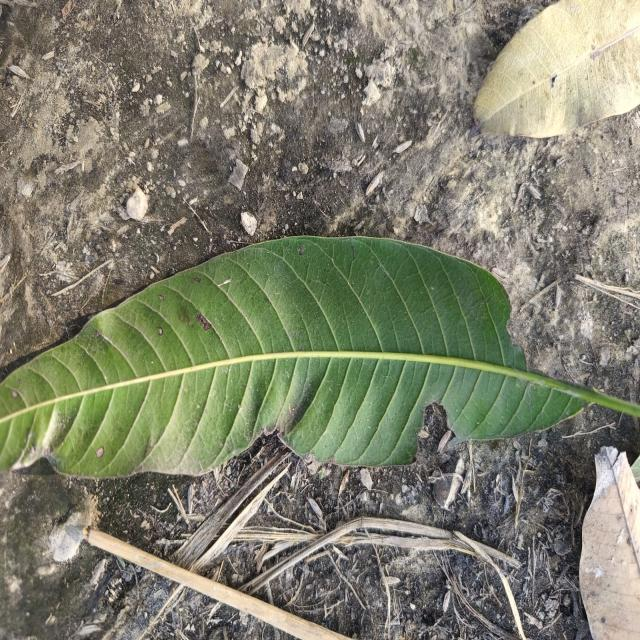Anthracnose: (194, 308, 215, 333), (296, 244, 304, 257), (158, 293, 167, 303), (157, 326, 165, 337), (193, 276, 203, 284)
Powdery Mildew: (95, 446, 107, 459), (11, 390, 18, 399)
